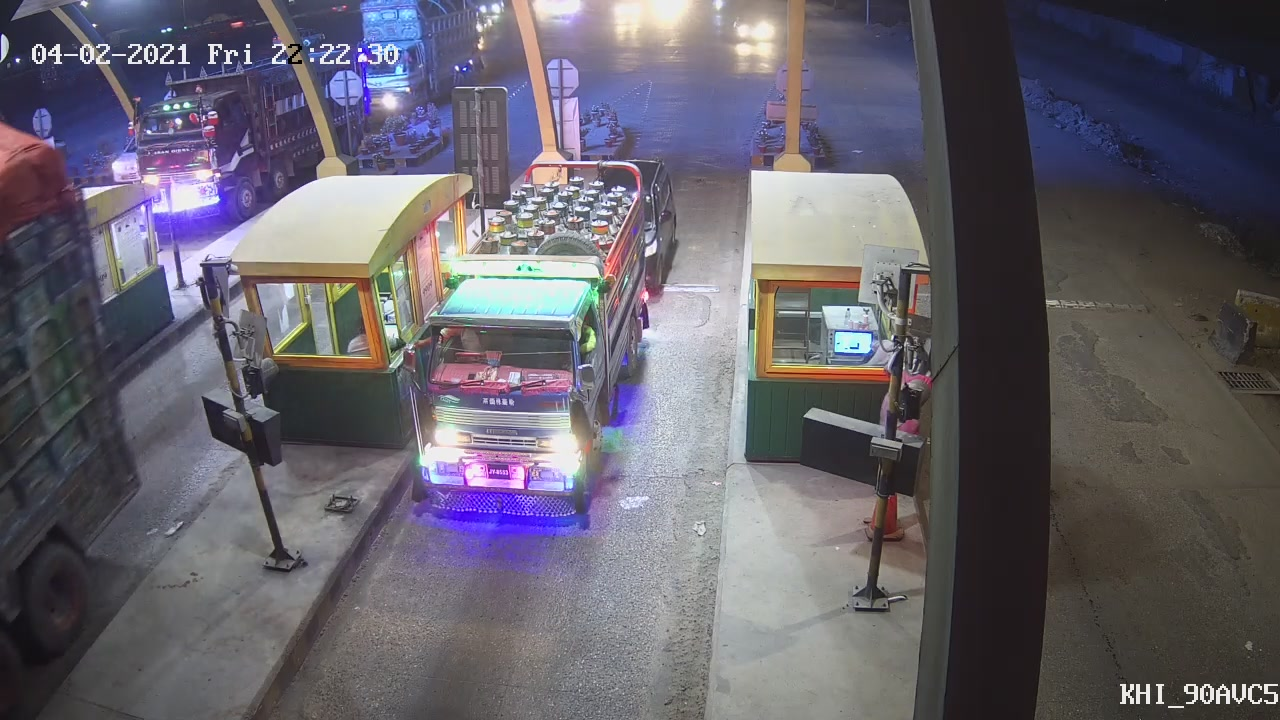F5: (408, 159, 668, 530)
